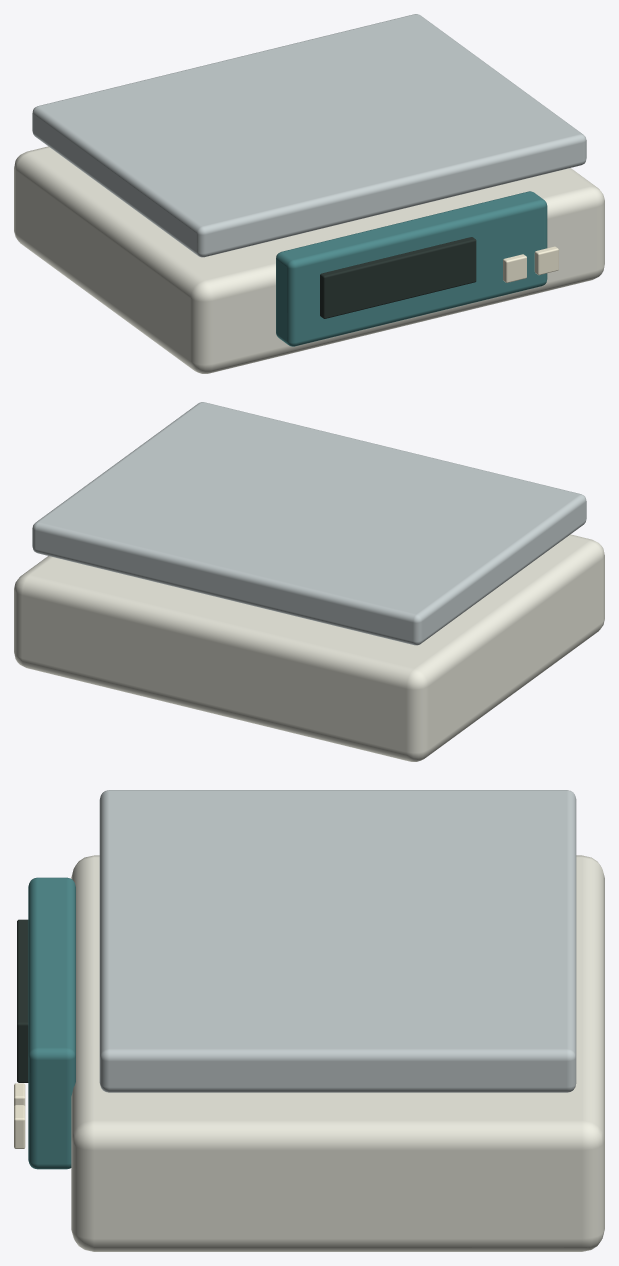
File: mushroom-farm-and-grow-rooms-produce-weighing-scale-2e0e3904__30845.glb
3 renders of one model, top to bottom at view 1: azimuth 30°, elevation 25°; view 2: azimuth 150°, elevation 25°; view 3: azimuth 270°, elevation 25°, orthographic. The views are drawn at different scales.
Parts seen in each view (by area): view 1: produce-weighing-scale; view 2: produce-weighing-scale; view 3: produce-weighing-scale.
Boxes of the visible parts, x1=… form: produce-weighing-scale: x1=14, y1=14, x2=604, y2=373; produce-weighing-scale: x1=14, y1=402, x2=604, y2=761; produce-weighing-scale: x1=14, y1=790, x2=604, y2=1251.
Size of the model in its own units: 0.35 by 0.115 by 0.31.
